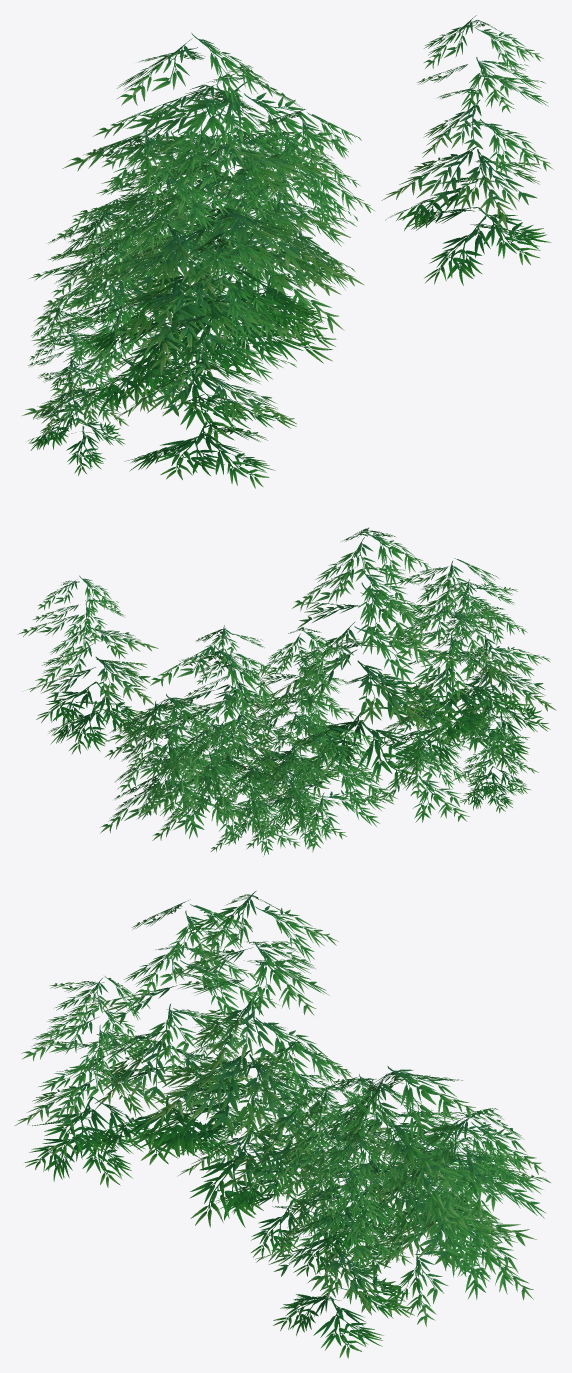
The model's file is Area_13_41.fbx.
3 renders of one model, top to bottom at view 1: azimuth 30°, elevation 25°; view 2: azimuth 150°, elevation 25°; view 3: azimuth 270°, elevation 25°, orthographic. The views are drawn at different scales.
Parts seen in each view (by area): view 1: Area_13_41; view 2: Area_13_41; view 3: Area_13_41.
Boxes of the visible parts, bbox=[...] form: Area_13_41: bbox=[22, 15, 553, 488]; Area_13_41: bbox=[17, 527, 556, 856]; Area_13_41: bbox=[15, 891, 550, 1358].
Size of the model in its own units: 2785 by 1600 by 2399.
